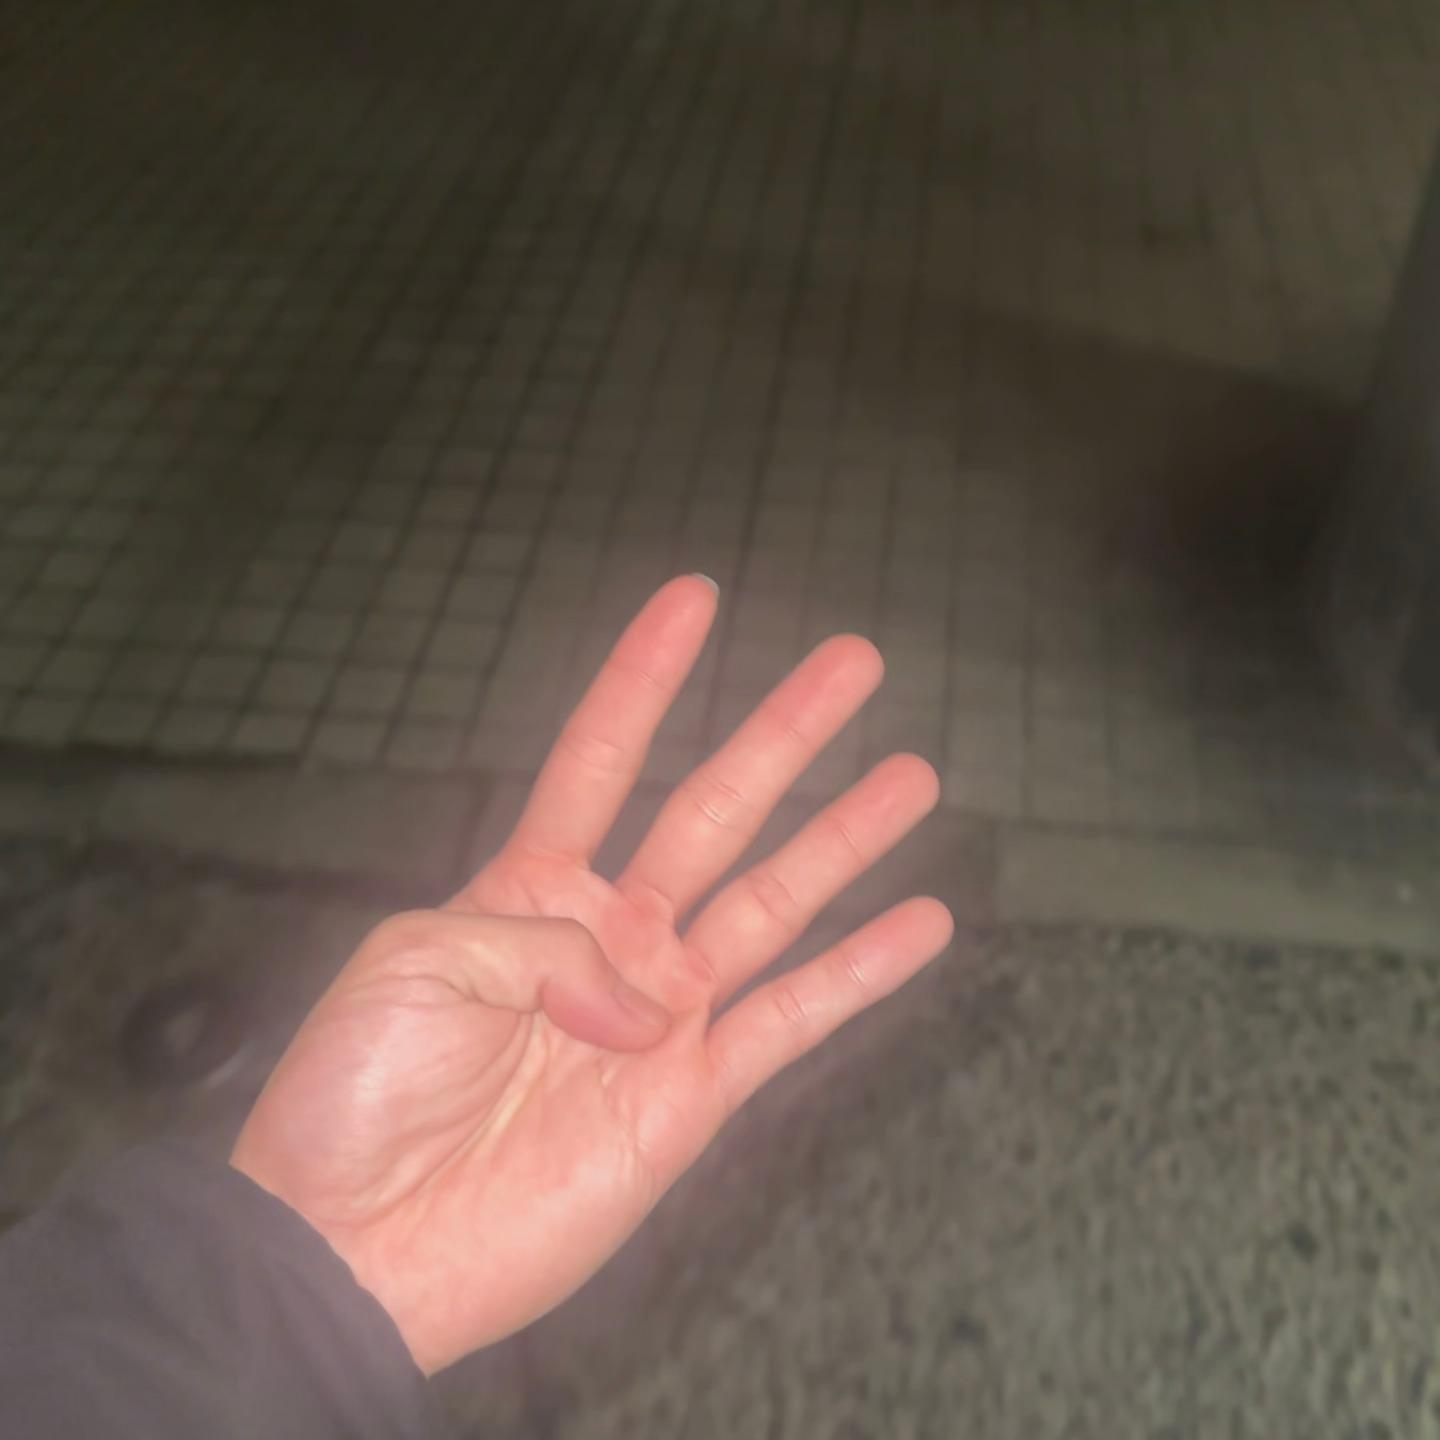without_gloves: (102, 400, 1022, 1357)
